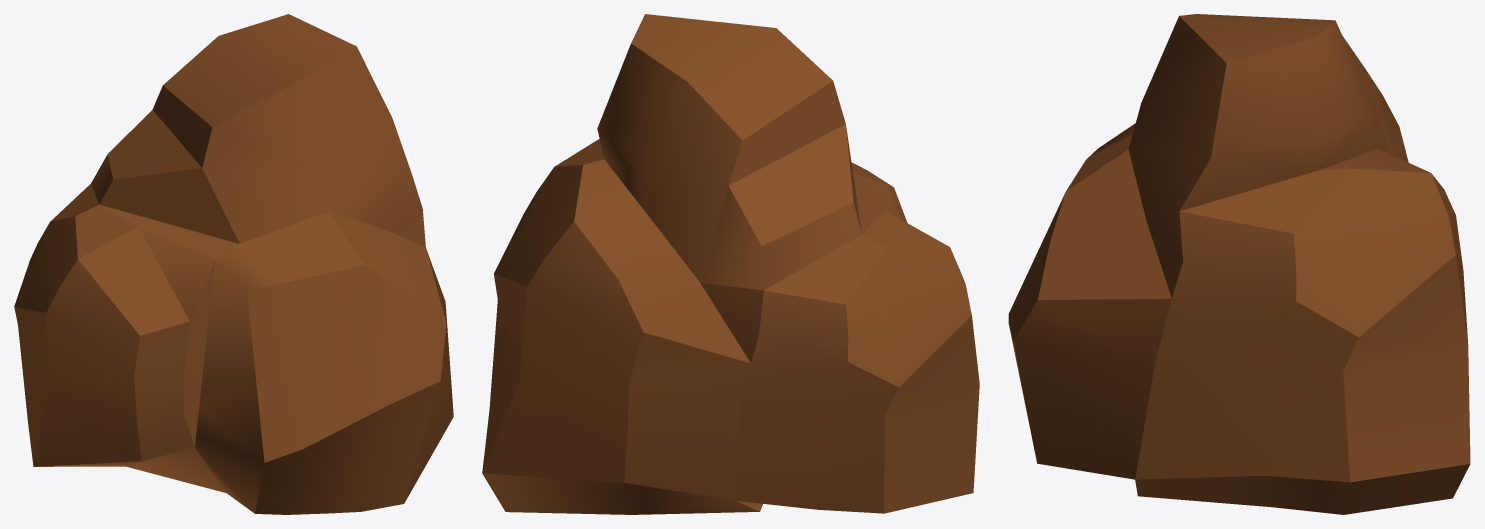
Rendered from rock_b2.glb.
3 views of the same model, side by side, from view 1: azimuth 30°, elevation 25°; view 2: azimuth 150°, elevation 25°; view 3: azimuth 270°, elevation 25° (orthographic). The views are drawn at different scales.
Parts seen in each view (by area): view 1: Rock_2; view 2: Rock_2; view 3: Rock_2.
Boxes of the visible parts, x1,y1,x2,y2 form: Rock_2: (14, 14, 453, 514); Rock_2: (482, 14, 979, 514); Rock_2: (1008, 14, 1470, 514).
Size of the model in its own units: 2.74 by 2.71 by 2.52.
1 material, 1 textured.
